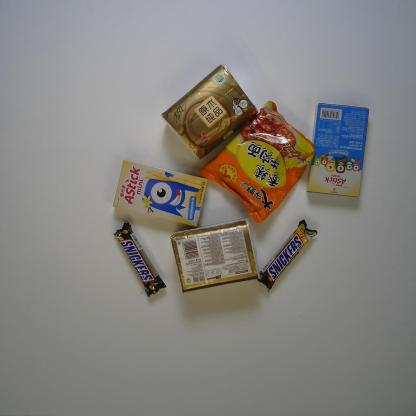Chocolate: (251, 219, 320, 294), (113, 220, 166, 298)
Dessert: (112, 159, 209, 227), (305, 100, 370, 198)
Instant Noodles: (198, 98, 318, 225)
Tissue: (159, 63, 260, 162), (170, 216, 261, 296)
